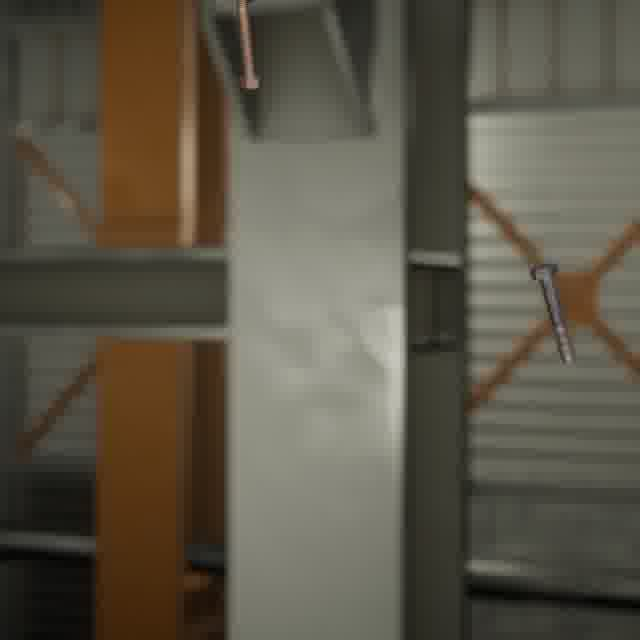bolt: (525, 257, 579, 367), (231, 0, 267, 93)
